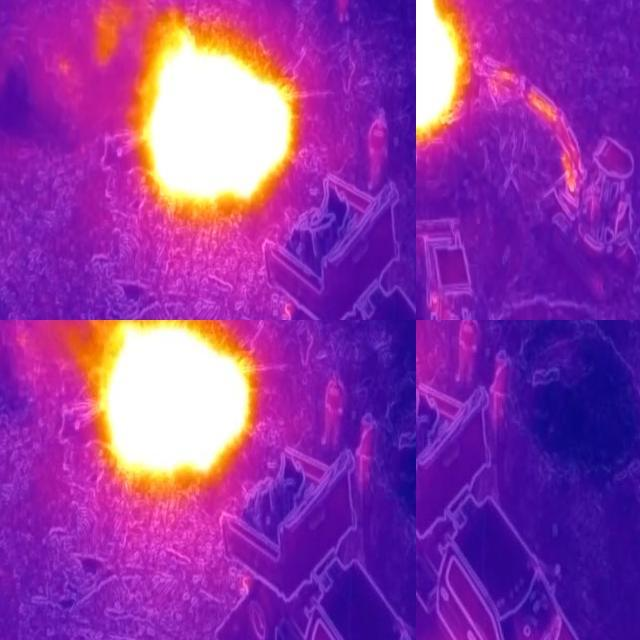fire: (131, 5, 303, 220), (89, 321, 263, 493), (417, 1, 462, 141)
